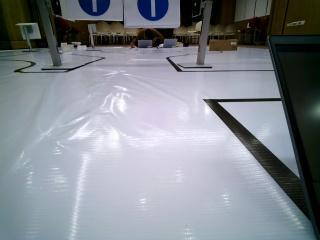straight: (59, 0, 124, 19), (127, 3, 179, 22)
